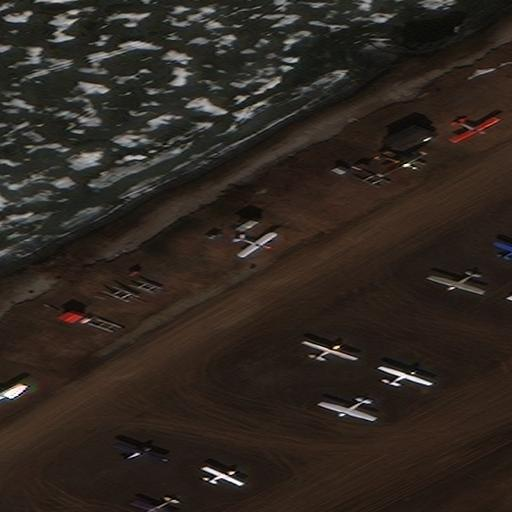Small Civil Transport: (315, 396, 373, 421), (425, 271, 483, 296), (378, 151, 429, 178), (454, 118, 502, 143), (303, 340, 358, 361), (379, 364, 434, 385), (237, 233, 278, 259), (115, 442, 168, 460), (203, 465, 245, 485), (128, 496, 174, 512), (0, 385, 28, 402), (494, 240, 512, 259)
